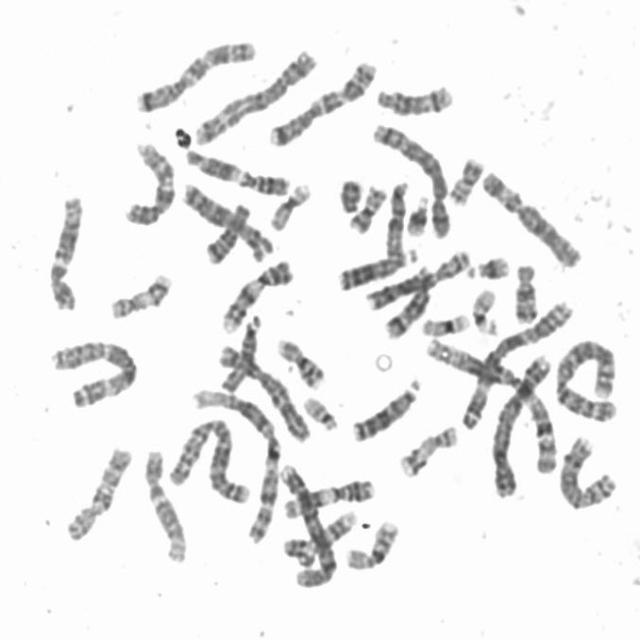A1: (424, 335, 560, 475), (191, 388, 281, 545)
A2: (168, 417, 254, 504), (555, 340, 619, 424)
A3: (459, 300, 575, 432), (48, 338, 137, 409)
B4: (490, 352, 552, 502), (276, 462, 340, 589)
B5: (193, 50, 319, 146), (370, 123, 451, 241)
C10: (64, 444, 133, 544), (122, 142, 174, 230)
C11: (185, 150, 290, 198), (280, 478, 376, 520)
C12: (143, 448, 189, 564), (48, 195, 86, 312)
C6: (478, 169, 584, 269), (217, 343, 311, 444)
C7: (267, 60, 380, 148), (134, 41, 258, 114)
C8: (363, 248, 470, 312), (557, 434, 617, 512)
C9: (219, 258, 296, 335), (282, 509, 358, 569)
D13: (350, 378, 424, 444), (335, 245, 419, 295)
D14: (383, 265, 432, 340), (376, 84, 457, 119)
D15: (218, 313, 263, 395), (383, 180, 412, 260)
E16: (344, 518, 398, 572), (276, 337, 328, 391)
E17: (398, 426, 460, 481), (108, 272, 174, 320)
E18: (204, 202, 251, 266), (514, 262, 539, 324)
F19: (267, 182, 314, 233), (420, 312, 472, 338)
F20: (346, 184, 389, 235), (448, 157, 484, 205)
G21: (464, 254, 511, 282), (404, 194, 430, 238)
G22: (468, 287, 499, 336), (302, 396, 339, 430)
X: (181, 181, 277, 265)
Y: (340, 179, 361, 215)
